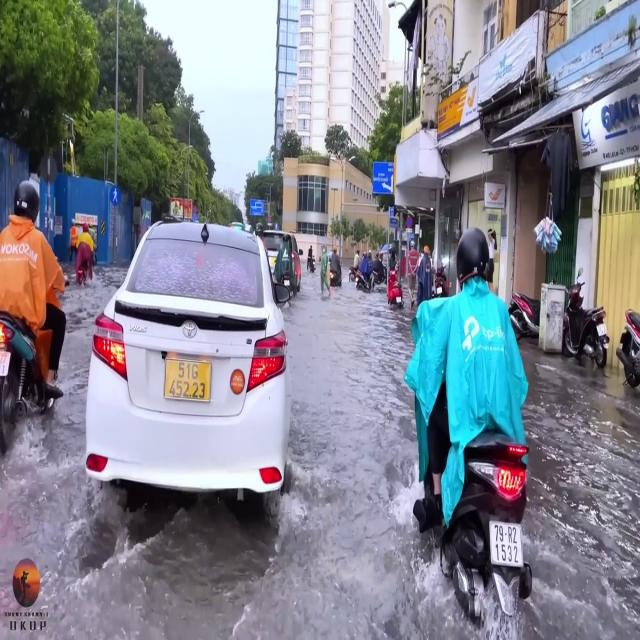bien_trang: (488, 520, 526, 575)
bien_vang: (163, 353, 209, 408)
